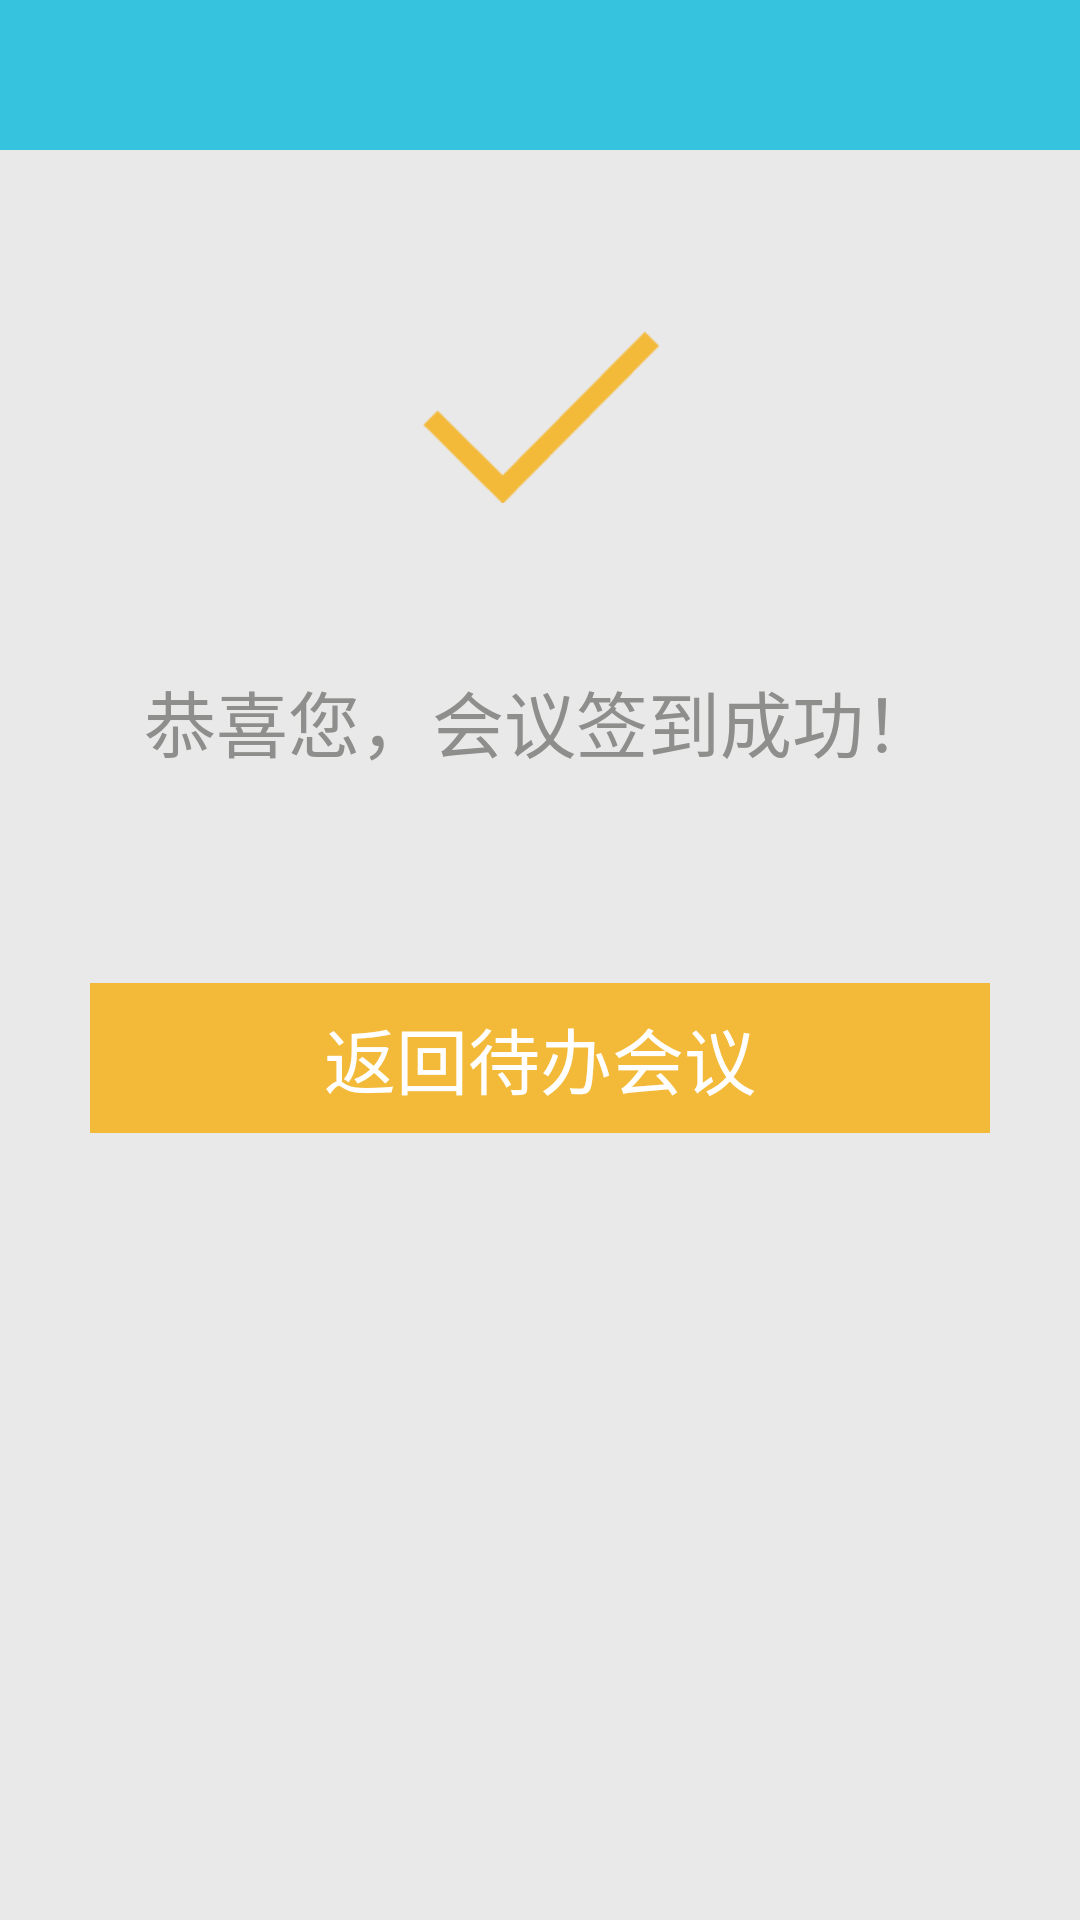

Screen size 1080px x 1920px. Icon name, then its box in pixels as (x1, y1, x2, y2):
launch meeting success: (423, 331, 659, 503)
